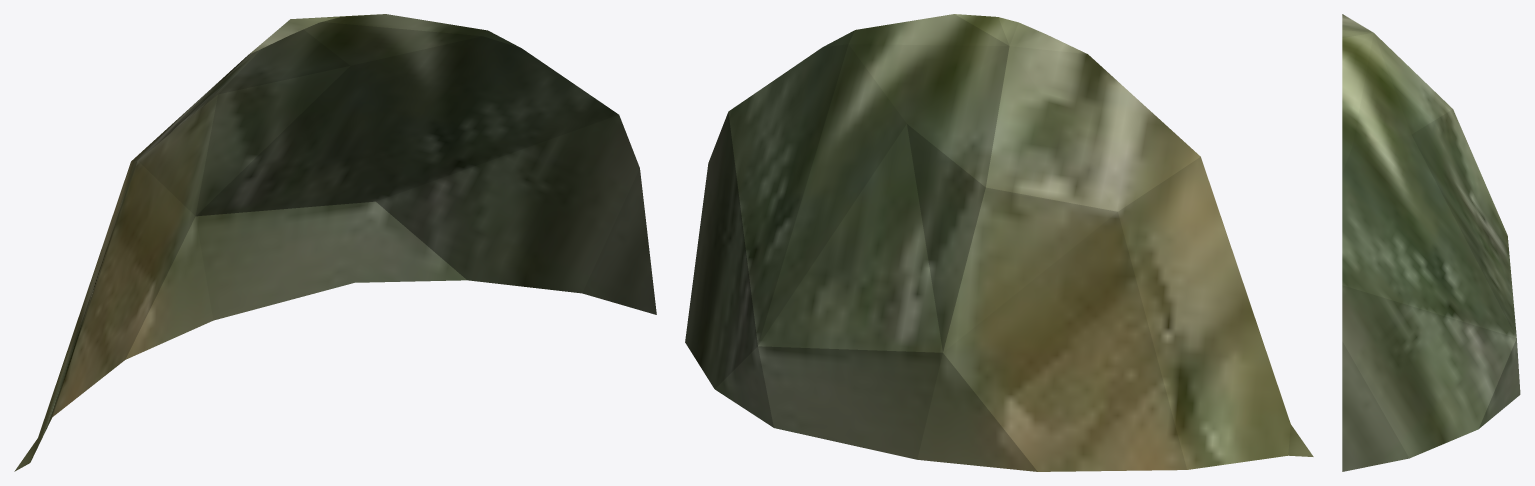
3 views of the same model, side by side, from view 1: azimuth 30°, elevation 25°; view 2: azimuth 150°, elevation 25°; view 3: azimuth 270°, elevation 25° (orthographic). The views are drawn at different scales.
Bounding box in the file's own units: 0.9585 × 0.5348 × 0.2807.
Materials: 1 (1 with a texture image).
